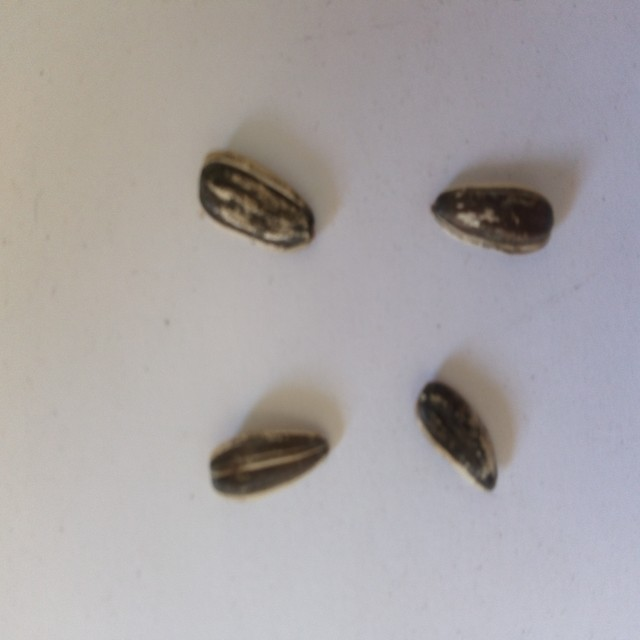girasol: (194, 147, 320, 253), (407, 375, 504, 498), (425, 180, 560, 261), (205, 432, 334, 502)
